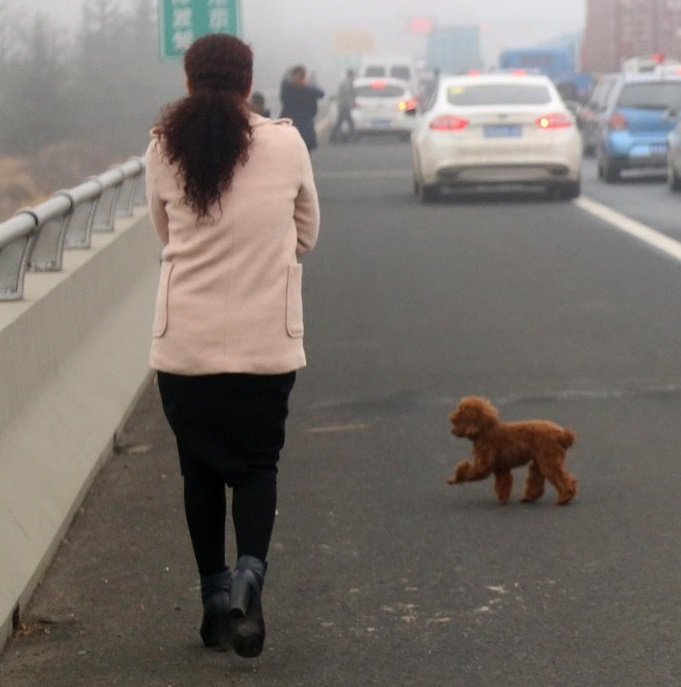person: (145, 32, 321, 660), (277, 63, 322, 153), (332, 65, 360, 145)
